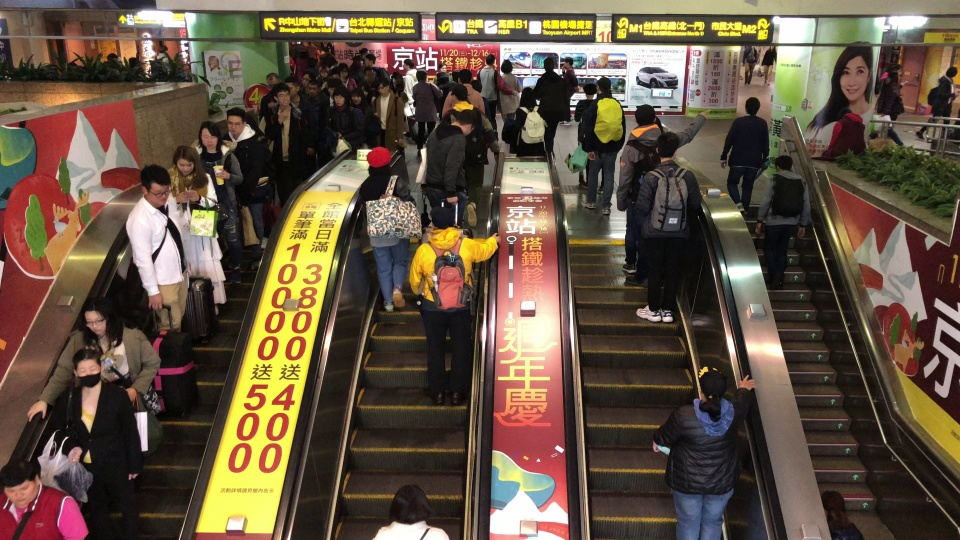person_head: (1, 459, 41, 508), (388, 482, 433, 524), (82, 294, 116, 335), (140, 162, 171, 204), (70, 347, 103, 385), (698, 369, 728, 400), (820, 489, 849, 519), (173, 144, 200, 175), (365, 144, 392, 173), (655, 132, 681, 161), (428, 204, 457, 229), (197, 119, 220, 148), (455, 108, 477, 137), (225, 104, 246, 134), (633, 102, 656, 125), (330, 85, 351, 108), (272, 82, 290, 105), (449, 83, 469, 102), (742, 95, 761, 115), (518, 86, 536, 107), (774, 154, 793, 172), (325, 78, 342, 97), (284, 75, 300, 94), (596, 76, 612, 95), (582, 81, 597, 99), (376, 75, 388, 95), (264, 71, 279, 87), (456, 67, 471, 83), (307, 79, 320, 97), (543, 55, 556, 73), (351, 86, 364, 103), (500, 57, 513, 73), (352, 56, 365, 70), (401, 57, 414, 71), (365, 68, 376, 84), (838, 105, 851, 118), (945, 65, 958, 78), (338, 62, 350, 76), (415, 69, 427, 83), (484, 52, 496, 66), (105, 52, 120, 63), (301, 70, 312, 84), (562, 54, 573, 68), (127, 55, 139, 67), (365, 53, 375, 66), (317, 65, 327, 77), (879, 71, 888, 83), (158, 44, 169, 53), (360, 48, 369, 58), (438, 62, 446, 72), (298, 50, 309, 57)
person_vbox: (407, 203, 501, 405), (649, 366, 755, 540), (25, 294, 163, 424), (53, 347, 144, 538), (615, 102, 712, 274), (633, 131, 701, 327), (124, 161, 189, 332), (163, 143, 227, 316), (357, 144, 411, 313), (221, 105, 273, 271), (441, 82, 500, 227), (196, 117, 244, 283), (754, 154, 811, 291), (419, 107, 478, 230), (1, 459, 88, 540), (581, 76, 628, 217), (718, 96, 770, 220), (262, 81, 313, 202), (369, 482, 450, 539), (533, 55, 570, 158), (474, 52, 519, 133), (810, 105, 867, 163), (913, 66, 958, 138), (868, 69, 906, 146), (509, 85, 548, 157), (371, 74, 405, 156), (412, 68, 443, 157), (573, 82, 597, 190), (327, 84, 363, 149), (819, 489, 863, 540), (441, 67, 484, 119), (350, 85, 377, 147), (499, 58, 522, 124), (401, 55, 417, 145), (257, 70, 280, 128), (560, 54, 578, 124), (283, 76, 311, 119), (307, 78, 327, 129), (741, 45, 759, 87), (761, 44, 777, 85), (338, 62, 356, 91), (151, 44, 170, 71), (296, 50, 310, 78)
